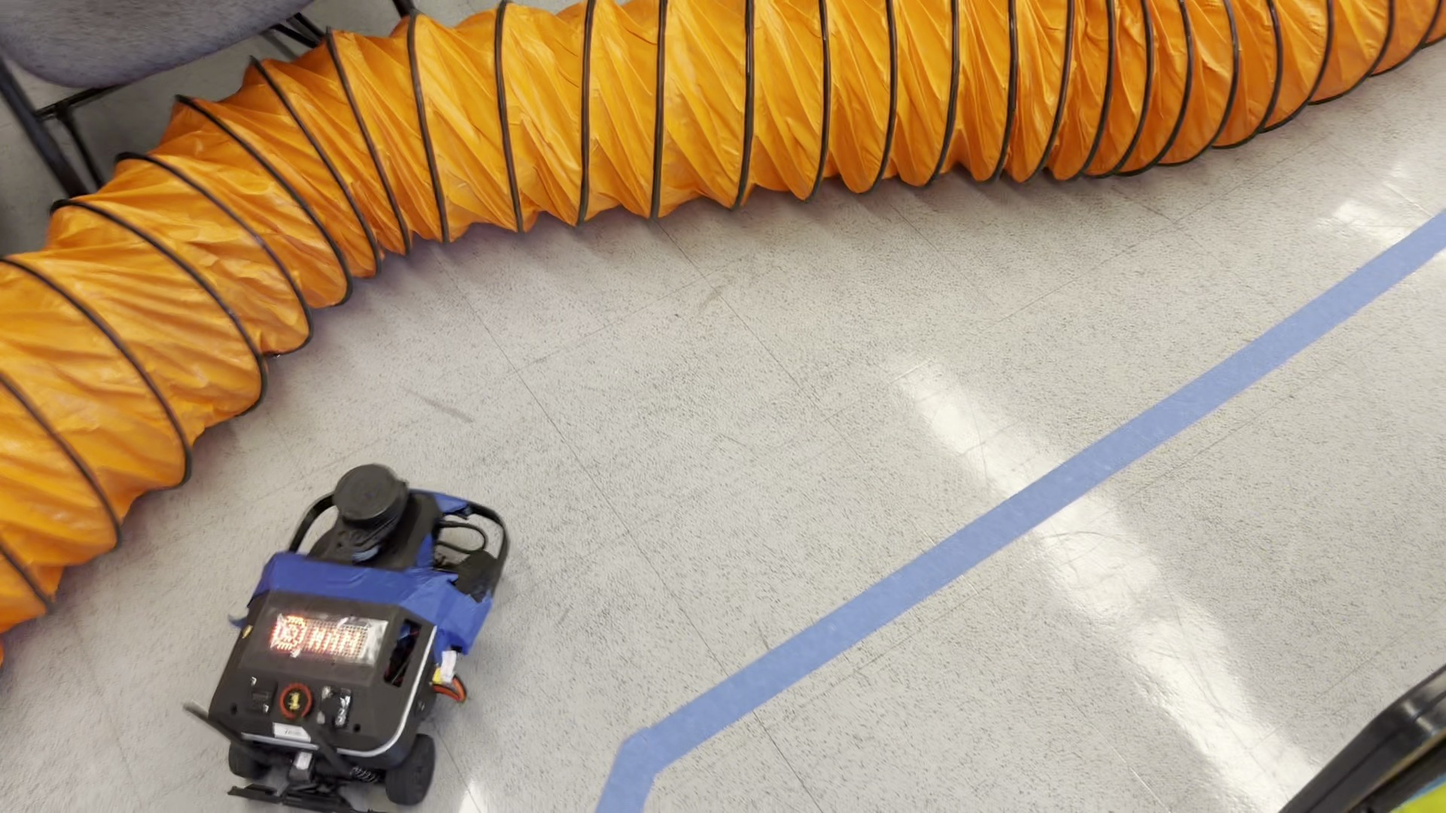racecar: (191, 463, 513, 810)
